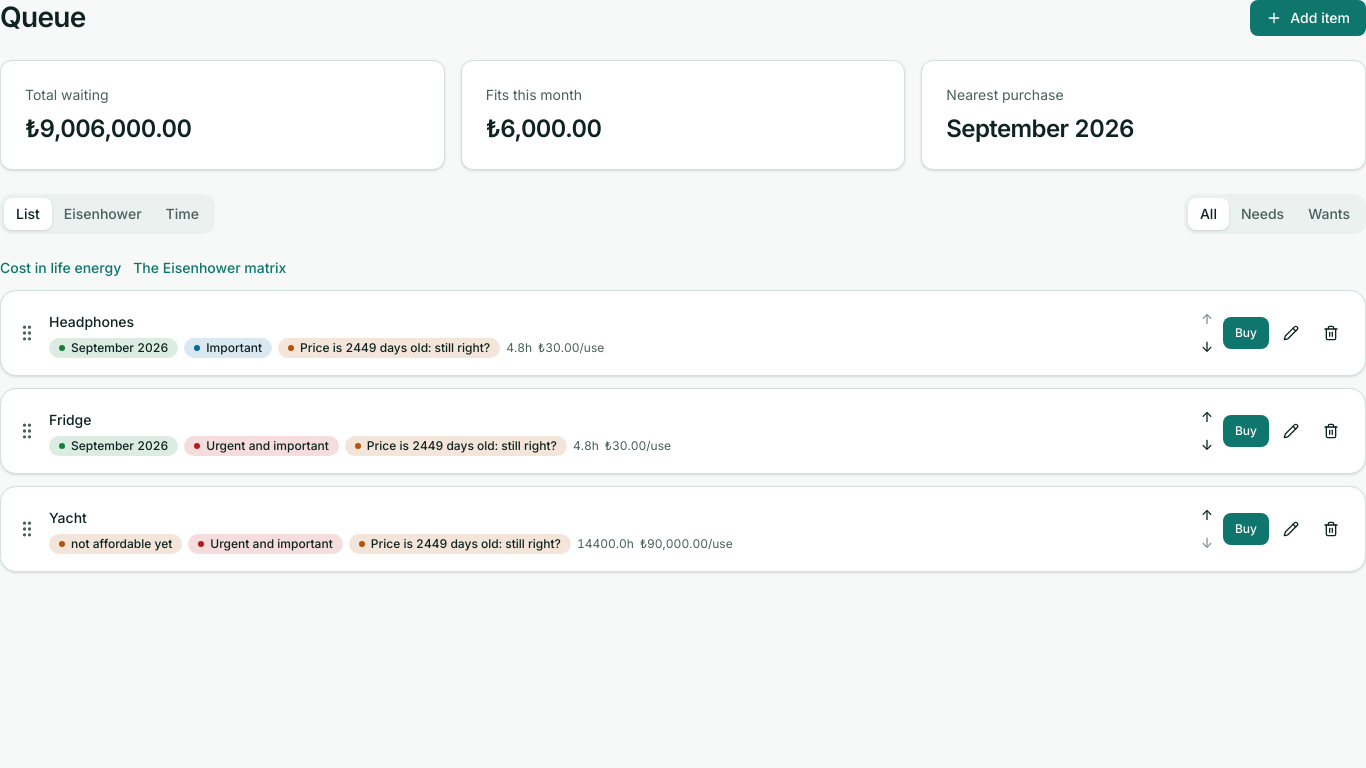
Test: Queue page layout › opens the preview in a side panel from the Buy button, not at the bottom of the page
The width and height of the screenshot is (1366, 768).
What coordinates should you click on to do the following:
click the 1st button "Buy"
I would click on:
 (1246, 333)
Its box is [1223,317,1269,349].
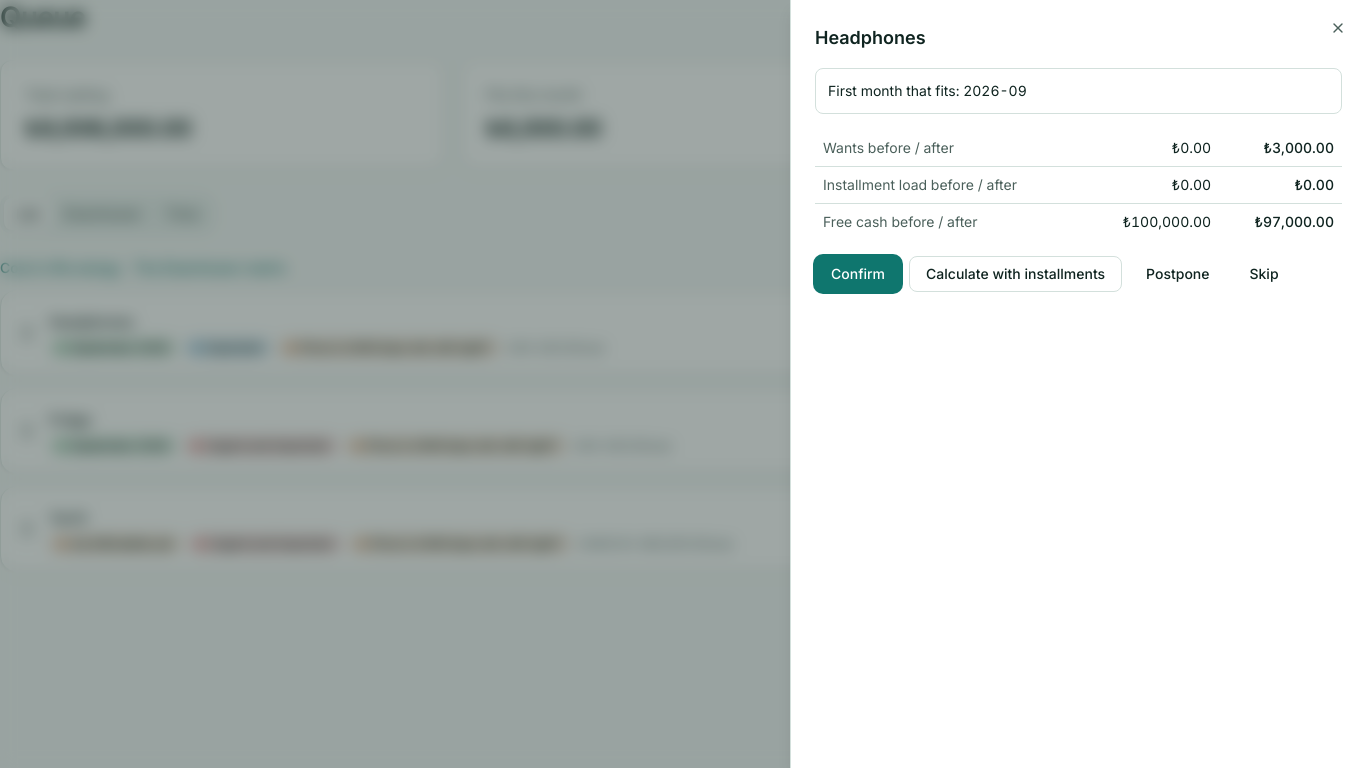
expect the button "Confirm" is shown: met, box [815,256,901,292]
